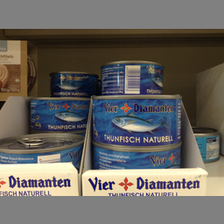fish: (90, 94, 184, 146), (100, 61, 164, 95), (28, 96, 88, 131), (48, 71, 98, 95)
